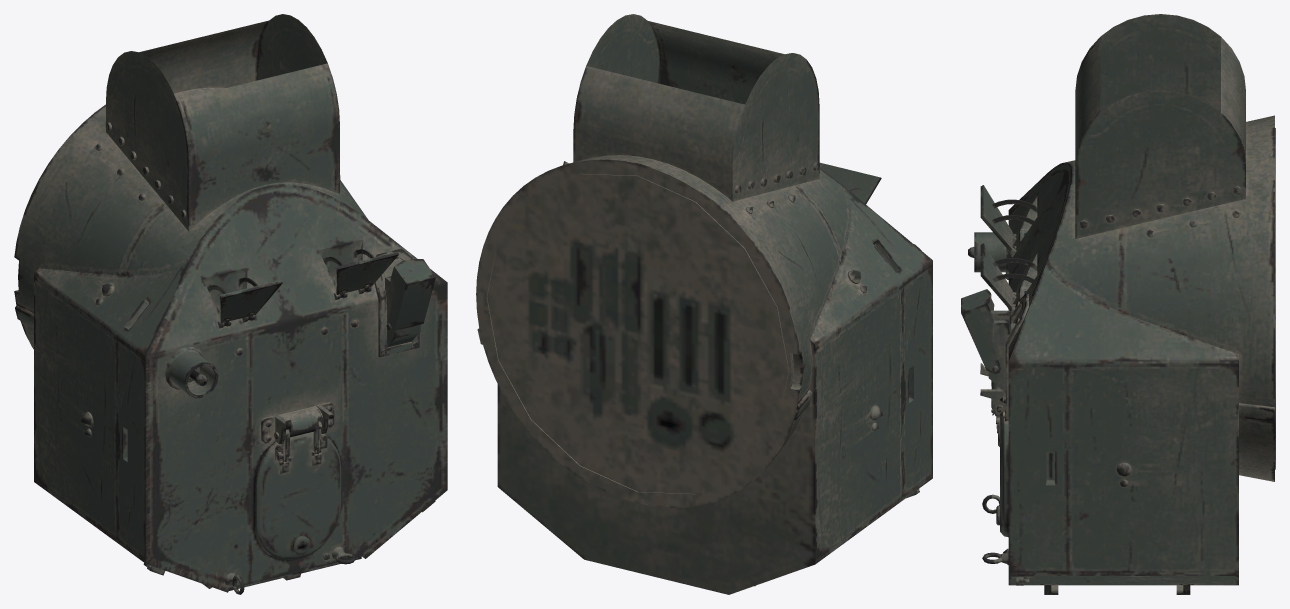
The model's file is Turret_01.glb.
3 renders of one model, left to right at view 1: azimuth 30°, elevation 25°; view 2: azimuth 150°, elevation 25°; view 3: azimuth 270°, elevation 25°, orthographic. The views are drawn at different scales.
Visible parts, largest first — view 1: set_0_group_0; view 2: set_0_group_0; view 3: set_0_group_0.
Part boxes in pixels (x1=…): set_0_group_0: x1=14, y1=14, x2=447, y2=594; set_0_group_0: x1=476, y1=14, x2=932, y2=594; set_0_group_0: x1=961, y1=14, x2=1275, y2=594.
Bounding box in the file's own units: 1.47 × 2.16 × 1.21.
Materials: 1 (1 with a texture image).
